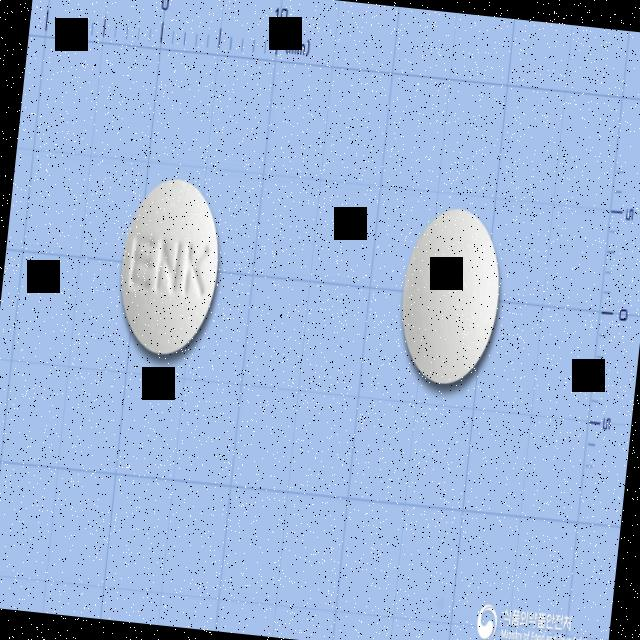Levoflo: (112, 174, 228, 358)
